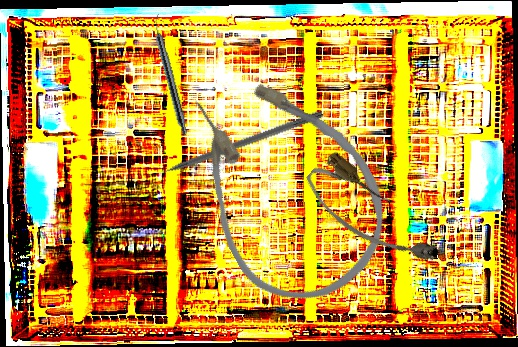Cannula: (158, 43, 414, 326), (297, 147, 447, 285)
Handpiece: (148, 13, 192, 136)
Pusher: (139, 108, 324, 184)
